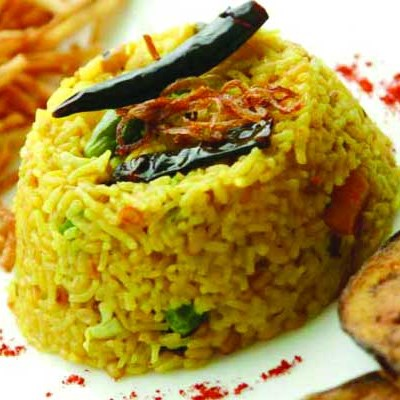khichuri: (12, 13, 392, 368)
